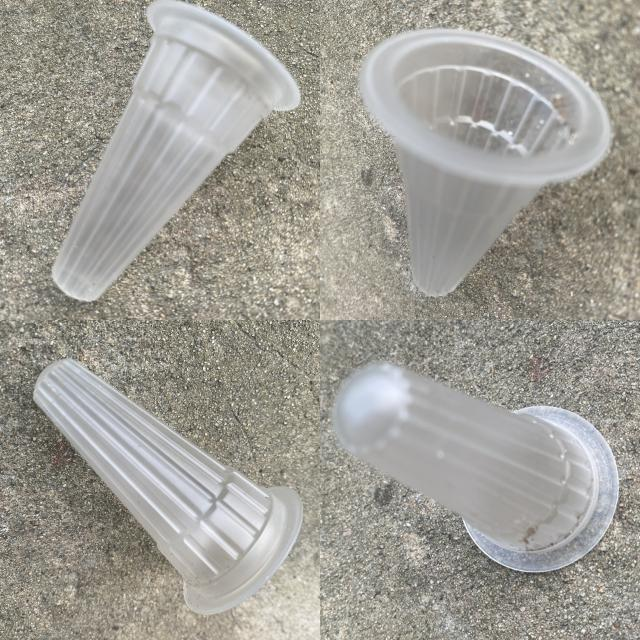Single-Use-Plastic: (52, 1, 300, 301), (34, 359, 302, 614), (360, 30, 610, 296), (332, 364, 619, 572)
